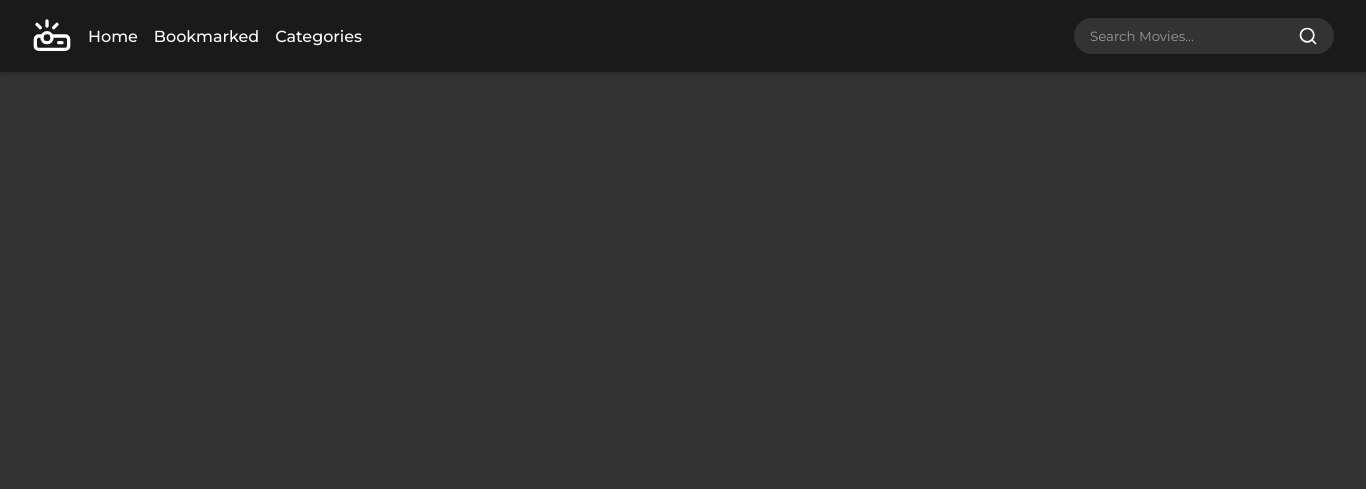
Test: Navbar Component - Desktop View › find matches in genres
This screenshot has width=1366, height=489.
Type "Crime" into the search field labelled "Search Movies...". click: x=1190, y=36
box: [1090,28,1290,44]
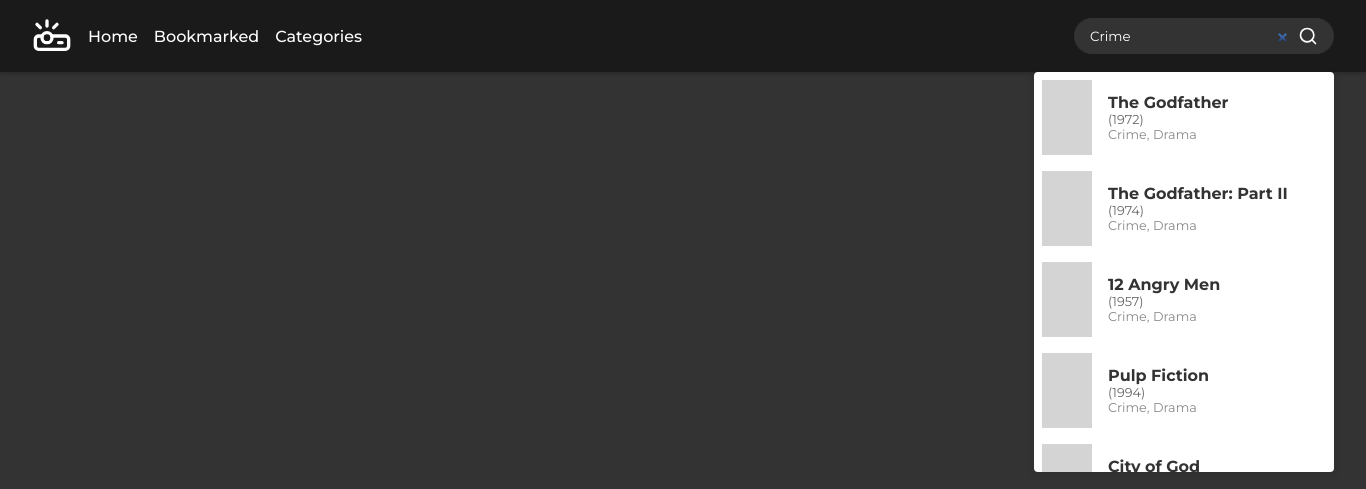
Check: the text "The Godfather" is shown, box [1108,93,1228,112]
